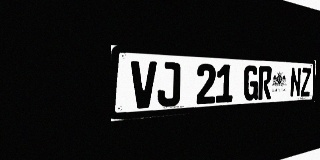1: (216, 64, 233, 103)
2: (196, 63, 216, 104)
G: (243, 65, 259, 101)
J: (157, 62, 181, 107)
N: (290, 67, 301, 98)
R: (258, 66, 272, 100)
V: (130, 60, 157, 109)
Z: (300, 68, 311, 97)
